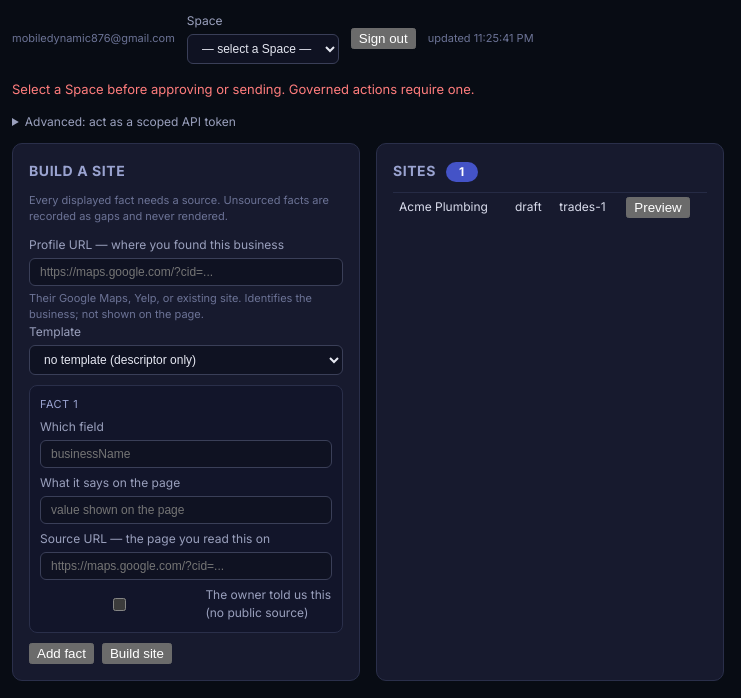
it: preview viewer › reports template issues instead of rendering a frame
Click the button "Preview" at [658, 207], box [626,196,690,218]
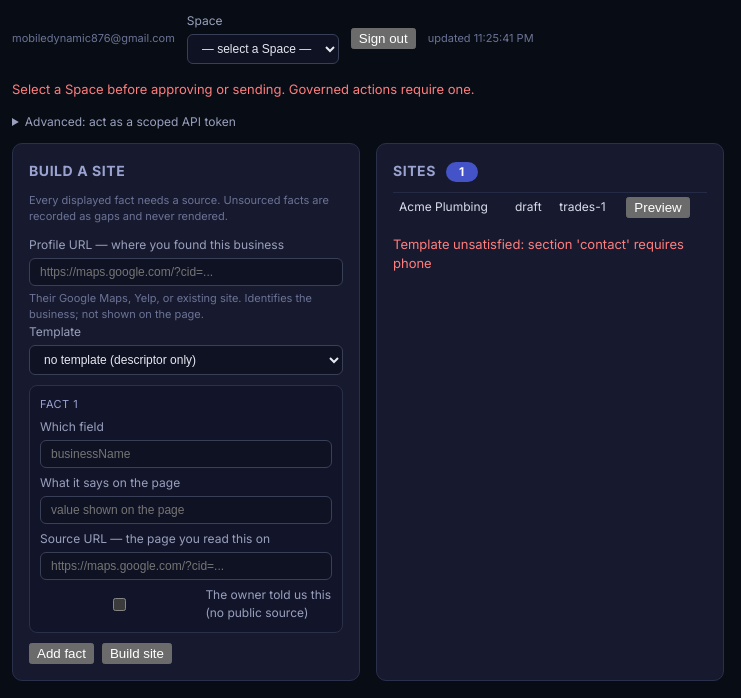
Result: the message "Template unsatisfied: section 'contact' requires phone" is shown at [393,234,707,274]
